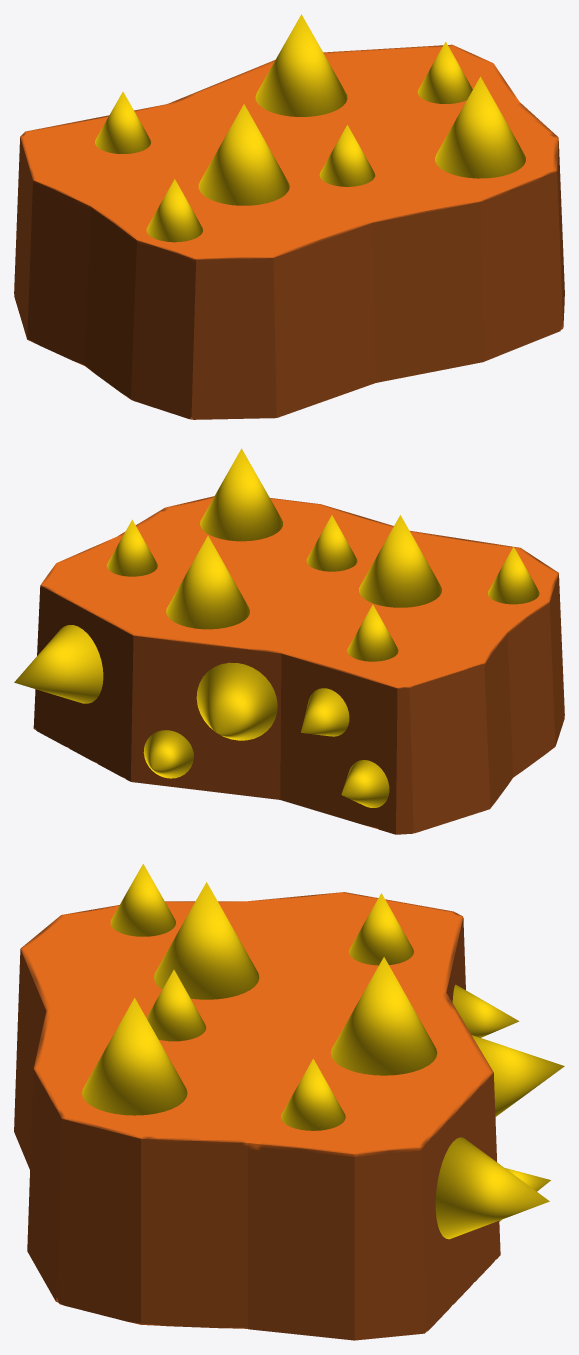
Rendered from DangerGround.obj.
3 renders of one model, top to bottom at view 1: azimuth 30°, elevation 25°; view 2: azimuth 150°, elevation 25°; view 3: azimuth 270°, elevation 25°, orthographic. The views are drawn at different scales.
Visible parts, largest first — view 1: 平面.002; view 2: 平面.002; view 3: 平面.002.
Boxes of the visible parts, x1=… form: 平面.002: x1=14, y1=14, x2=564, y2=419; 平面.002: x1=14, y1=448, x2=564, y2=834; 平面.002: x1=14, y1=864, x2=564, y2=1340.
Bounding box in the file's own units: 6.1 × 2.95 × 5.27.
2 materials, 2 textured.
